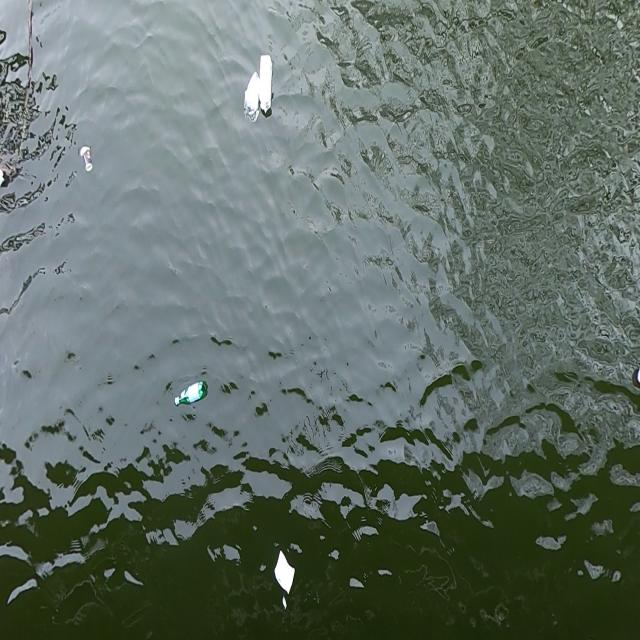Autre plastique: (271, 547, 300, 598)
Bouteille plastique: (169, 371, 212, 414)
Non plastique: (79, 140, 95, 175)
